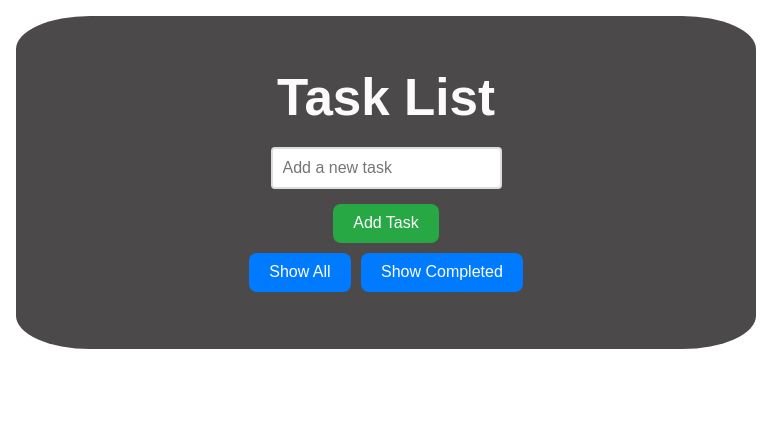
it: TaskList Component › should add a new task
Digita o nome da tarefa e clica para adicionar
Type "New Task" into the field with test id "task-input" at (387, 168), box [271,147,502,189]
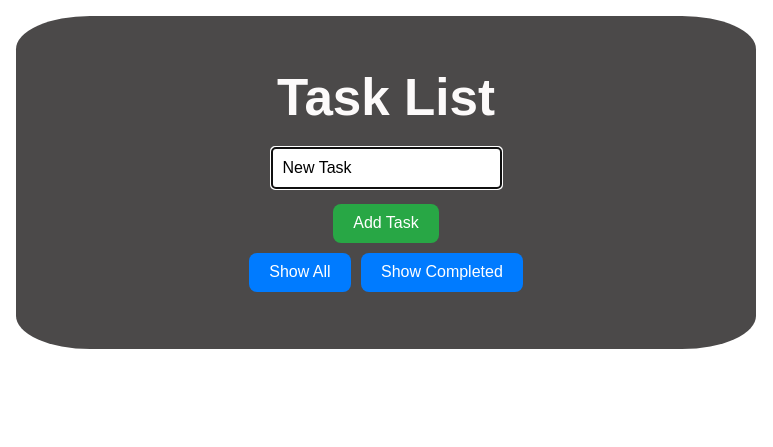
Click the button with class "addTask" at (386, 224), box [333,204,439,243]
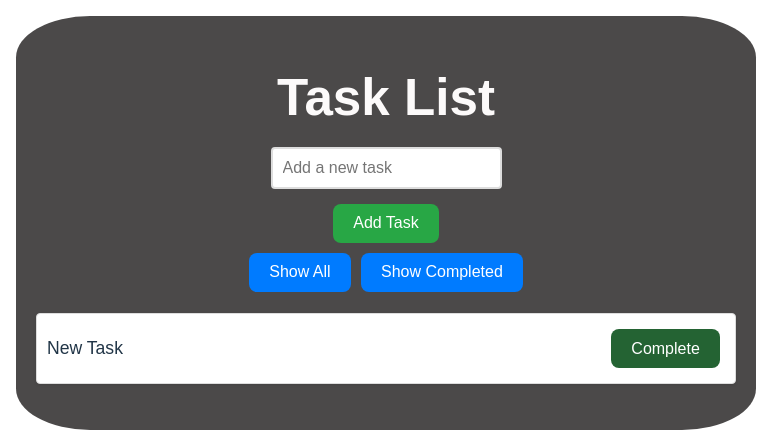
Check: the number of list items with class "taskItem" is 1, box [36,313,736,384]
Check: the text "New Task" is shown, box [47,335,123,362]
